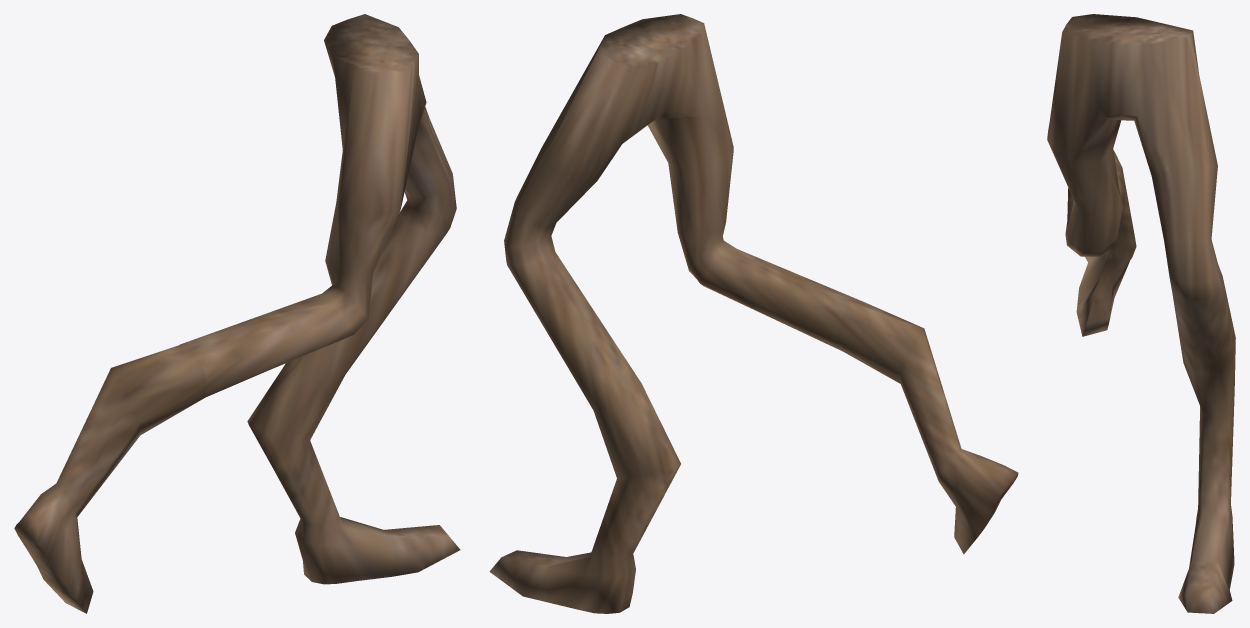
The model's file is demon_legs_000002.obj.
3 renders of one model, left to right at view 1: azimuth 30°, elevation 25°; view 2: azimuth 150°, elevation 25°; view 3: azimuth 270°, elevation 25°, orthographic. The views are drawn at different scales.
Visible parts, largest first — view 1: Legs; view 2: Legs; view 3: Legs.
Part boxes in pixels (bbox=[...]): Legs: bbox=[14, 14, 460, 613]; Legs: bbox=[489, 14, 1018, 613]; Legs: bbox=[1047, 14, 1235, 613].
Size of the model in its own units: 5.65 by 6.25 by 1.98.
Materials: 1 (1 with a texture image).
